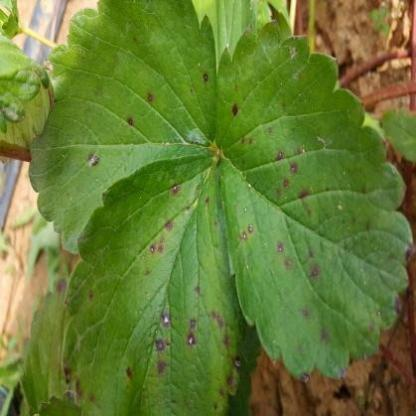Strawberry_Leaf_Spot: (214, 19, 416, 384), (61, 151, 247, 416), (27, 0, 217, 256)
